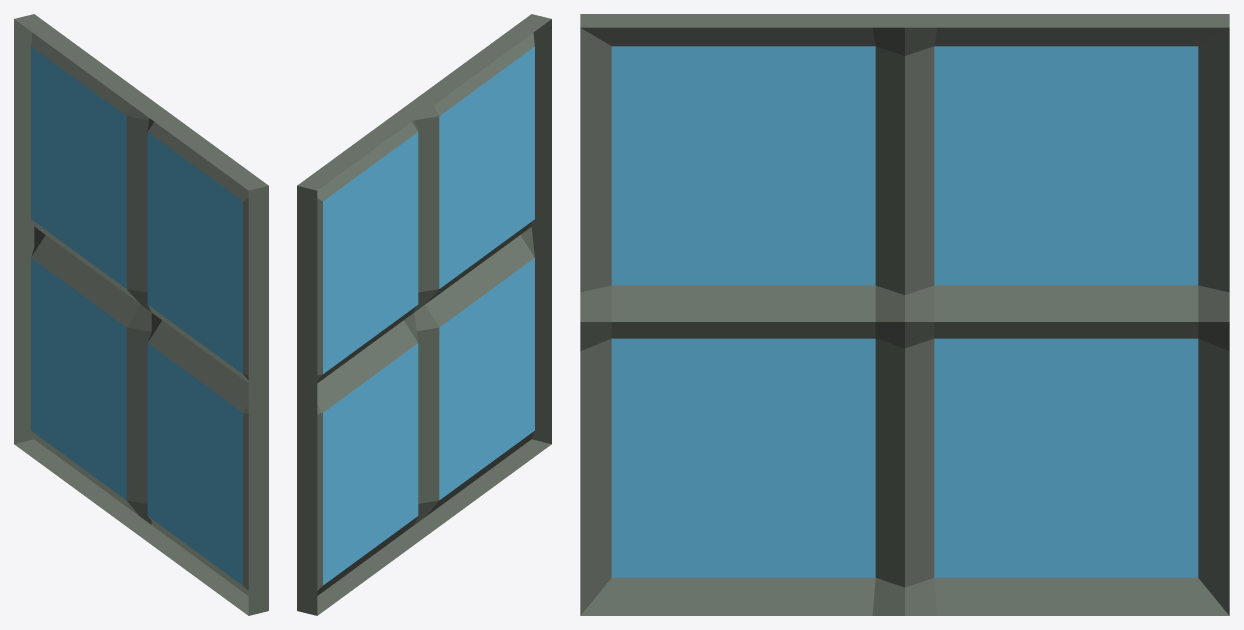
Rendered from window.fbx.
3 renders of one model, left to right at view 1: azimuth 30°, elevation 25°; view 2: azimuth 150°, elevation 25°; view 3: azimuth 270°, elevation 25°, orthographic. The views are drawn at different scales.
Parts seen in each view (by area): view 1: Cube; view 2: Cube; view 3: Cube.
Part boxes in pixels (<box>): Cube: <box>14,14,268,615</box>; Cube: <box>297,14,551,615</box>; Cube: <box>580,14,1229,615</box>.
Bounding box in the file's own units: 200 × 4000 × 4000.
